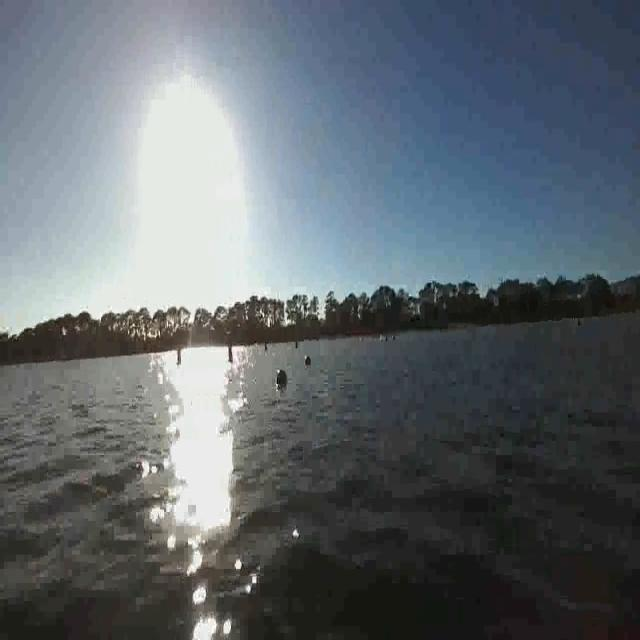black-buoy: (277, 368, 288, 384), (306, 355, 311, 365)
